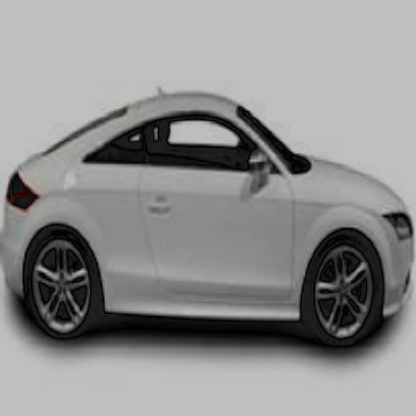Vehicle: (3, 88, 413, 358)
